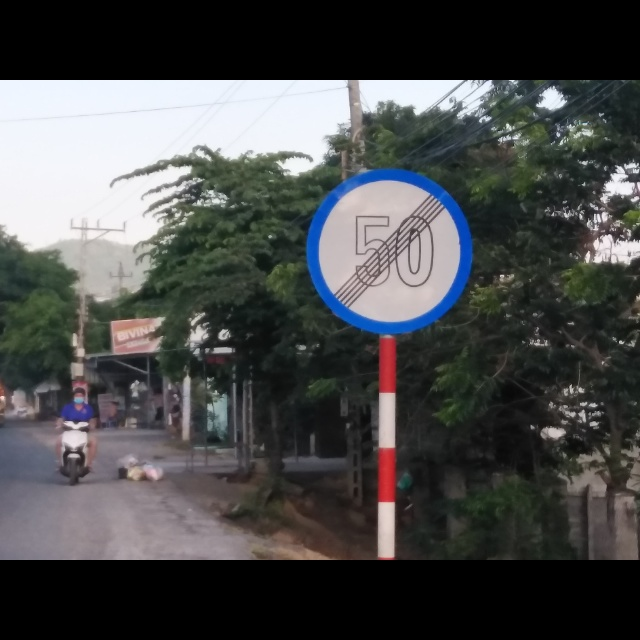Hết hạn chế tốc độ tối đa 50km/h: (305, 168, 473, 337)
